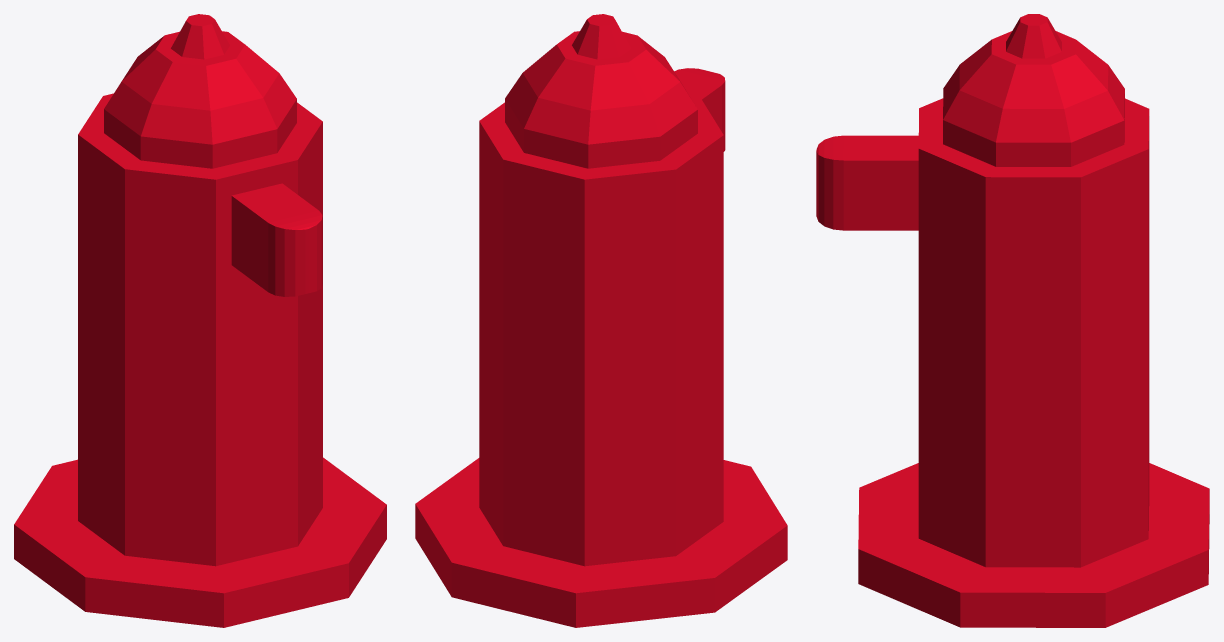
File: fire_hydrant.fbx
3 views of the same model, side by side, from view 1: azimuth 30°, elevation 25°; view 2: azimuth 150°, elevation 25°; view 3: azimuth 270°, elevation 25° (orthographic).
Visible parts, largest first — view 1: firehydrant; view 2: firehydrant; view 3: firehydrant.
Part boxes in pixels (x1,y1,x2,y2): firehydrant: (14,14,386,627); firehydrant: (415,14,787,627); firehydrant: (816,14,1209,627).
Bounding box in the file's own units: 13.48 × 22.63 × 15.09.
